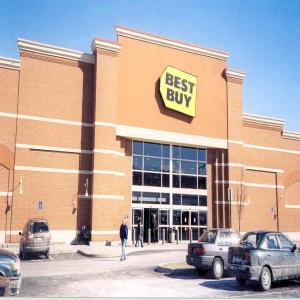Vehicle-registration-plate: (38, 238, 44, 243)
